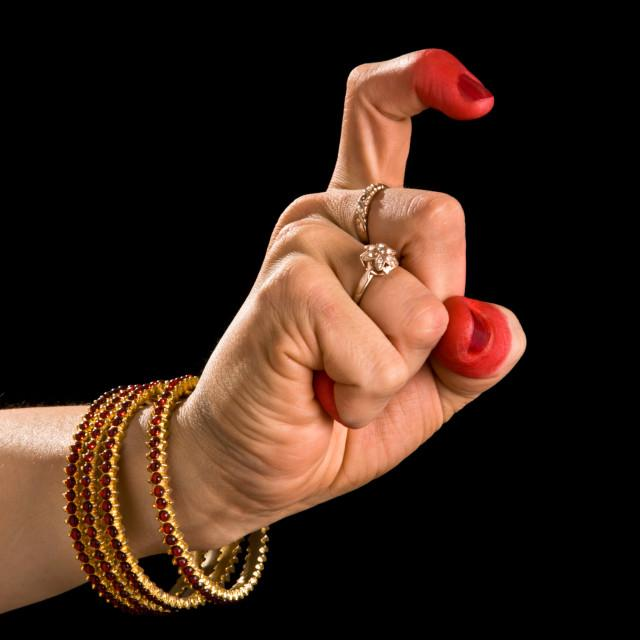tamrachud: (64, 49, 526, 616)
